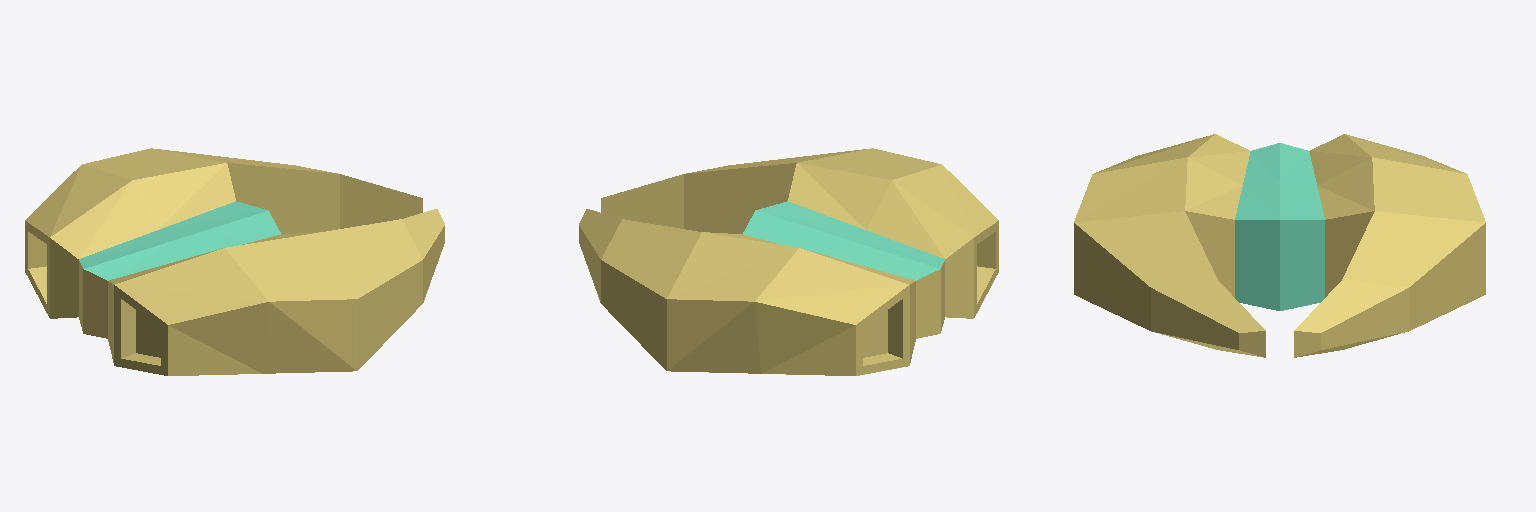
3 renders of one model, left to right at view 1: azimuth 30°, elevation 25°; view 2: azimuth 150°, elevation 25°; view 3: azimuth 270°, elevation 25°, orthographic.
Parts seen in each view (by area): view 1: Cube_Cube.001; view 2: Cube_Cube.001; view 3: Cube_Cube.001.
Part boxes in pixels (left/top/right/bottom): Cube_Cube.001: left=25, top=148, right=444, bottom=375; Cube_Cube.001: left=579, top=148, right=998, bottom=375; Cube_Cube.001: left=1074, top=134, right=1485, bottom=357.
Size of the model in its own units: 4.98 by 1.67 by 5.12.
1 materials, 1 textured.